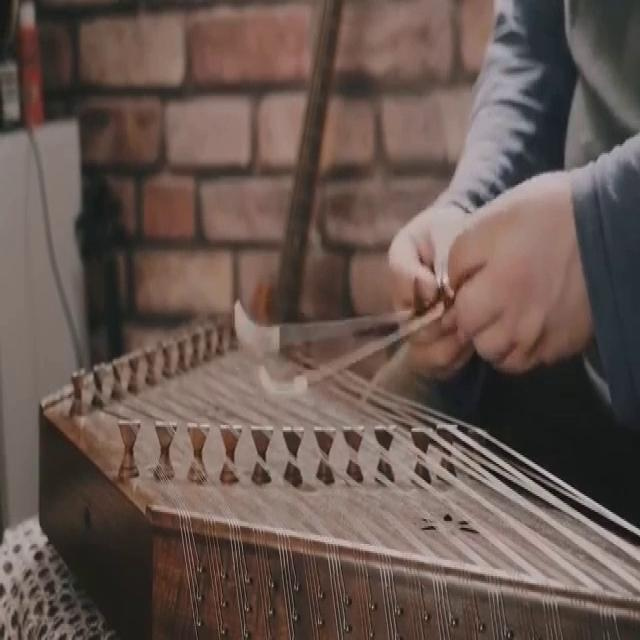Santur: (29, 280, 640, 640)
